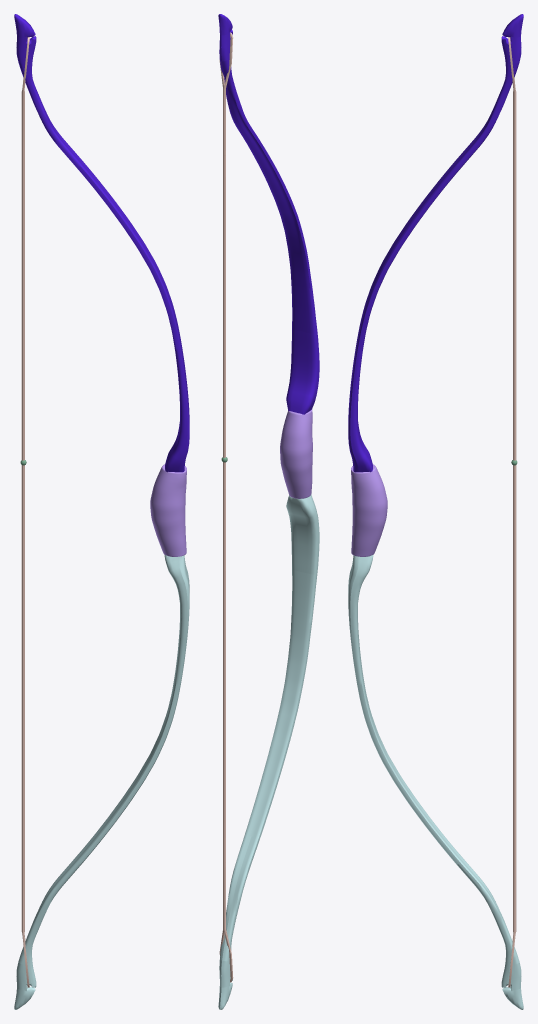
3 views of the same model, side by side, from view 1: azimuth 90°, elevation 25°; view 2: azimuth 150°, elevation 25°; view 3: azimuth 270°, elevation 25° (orthographic).
Parts seen in each view (by area): view 1: split_parent_2, split_parent_3, split_parent_1, Tradisional Bow Kid_PolySphere_0; view 2: split_parent_3, split_parent_2, split_parent_1, Tradisional Bow Kid_PolySphere_0; view 3: split_parent_2, split_parent_3, split_parent_1, Tradisional Bow Kid_PolySphere_0.
Boxes of the visible parts, x1=… form: split_parent_2: x1=14, y1=14, x2=189, y2=472; split_parent_3: x1=14, y1=554, x2=189, y2=1009; split_parent_1: x1=21, y1=37, x2=29, y2=987; Tradisional Bow Kid_PolySphere_0: x1=150, y1=464, x2=186, y2=556; split_parent_3: x1=218, y1=494, x2=319, y2=1009; split_parent_2: x1=218, y1=14, x2=319, y2=414; split_parent_1: x1=219, y1=32, x2=233, y2=982; Tradisional Bow Kid_PolySphere_0: x1=280, y1=409, x2=312, y2=498; split_parent_2: x1=348, y1=14, x2=523, y2=472; split_parent_3: x1=348, y1=554, x2=523, y2=1009; split_parent_1: x1=508, y1=37, x2=516, y2=987; Tradisional Bow Kid_PolySphere_0: x1=351, y1=464, x2=387, y2=556.
Bounding box in the file's own units: 0.029 × 1 × 0.1598.
